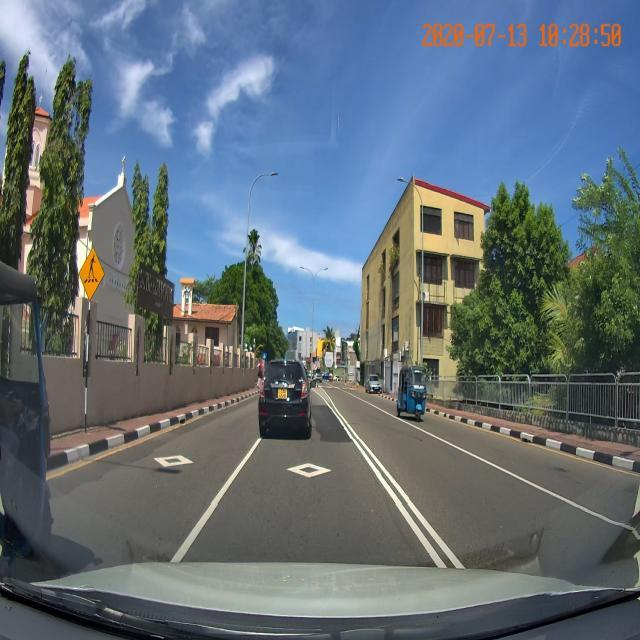diamond: (206, 440, 409, 504)
